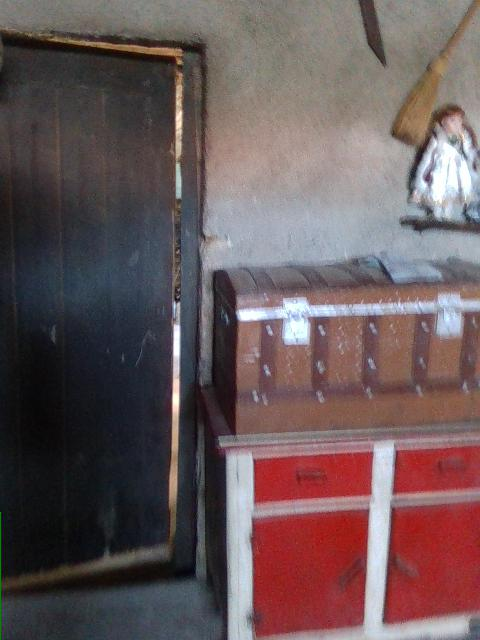door: (0, 31, 204, 593)
